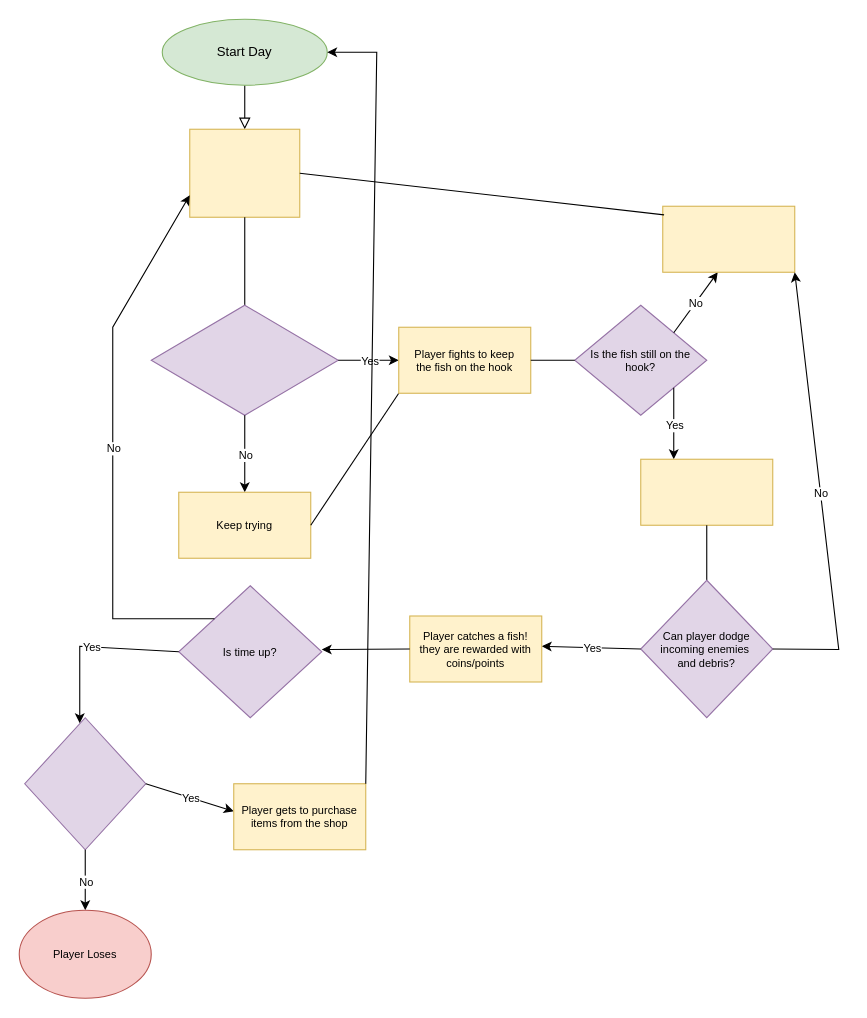
Image size: 867x1018. Some labels were removed from this diagram. The centre of each missing label's shape, as x and y in pixels:
Did the player catch enough fish to survive?: (x=85, y=783)
Did the player get the fish on the hook?: (x=244, y=359)
Fish swims away: (x=728, y=238)
Player moves mouse up and down to catch fish: (x=244, y=172)
Player pulls fish to the surface: (x=706, y=491)
